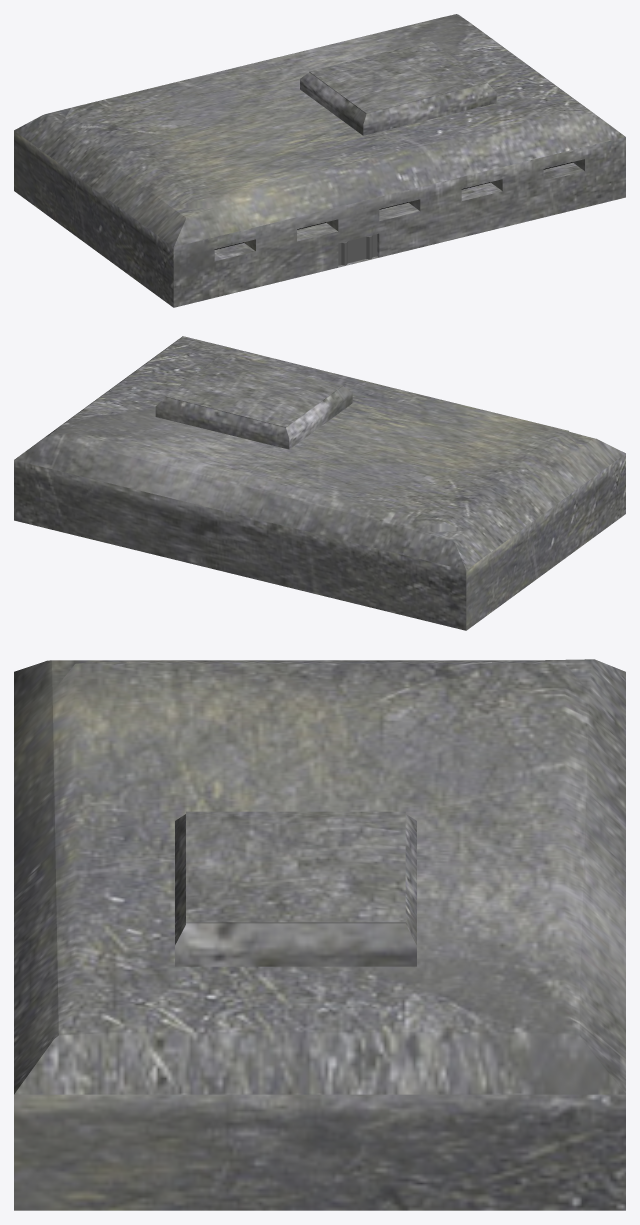
The model's file is BunkerEnvironment.fbx.
3 renders of one model, top to bottom at view 1: azimuth 30°, elevation 25°; view 2: azimuth 150°, elevation 25°; view 3: azimuth 270°, elevation 25°, orthographic. The views are drawn at different scales.
Parts seen in each view (by area): view 1: polySurface2, pCube3; view 2: polySurface2; view 3: polySurface2.
Part boxes in pixels (x1,y1,x2,y2): polySurface2: [14, 14, 625, 307]; pCube3: [338, 234, 377, 265]; polySurface2: [14, 336, 625, 630]; polySurface2: [14, 659, 625, 1210].
Size of the model in its own units: 17.77 by 4 by 10.87.
3 materials, 1 textured.
